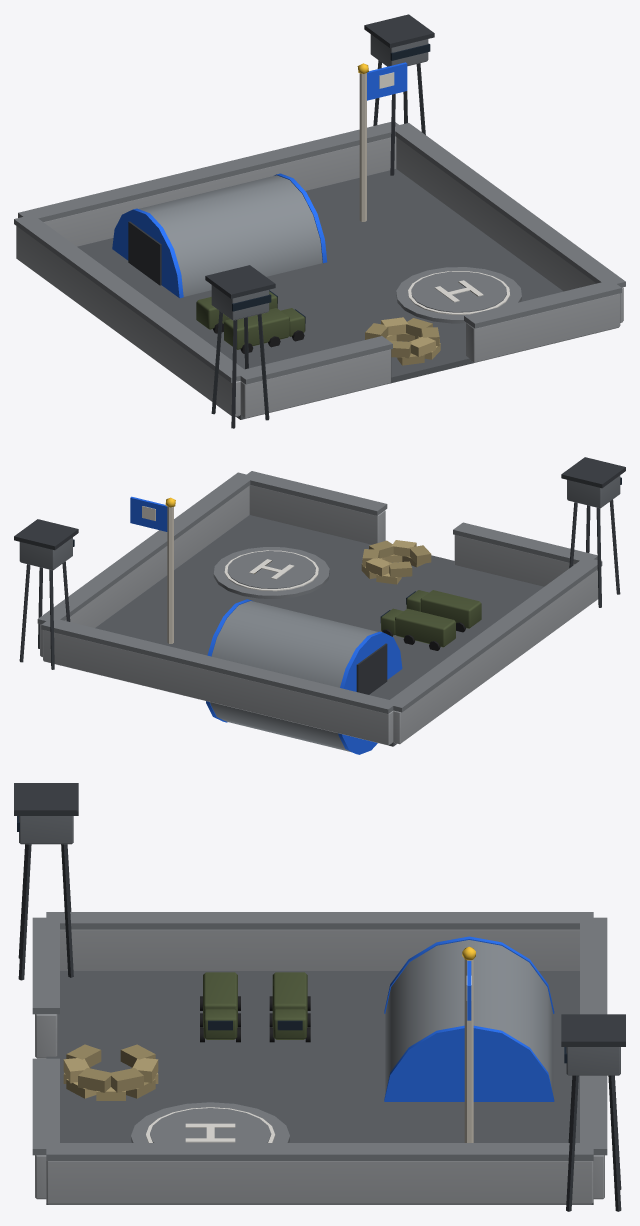
File: military_base_modern_blue.glb
3 renders of one model, top to bottom at view 1: azimuth 30°, elevation 25°; view 2: azimuth 150°, elevation 25°; view 3: azimuth 270°, elevation 25°, orthographic. The views are drawn at different scales.
Visible parts, largest first — view 1: military_base_modern_blue; view 2: military_base_modern_blue; view 3: military_base_modern_blue.
Part boxes in pixels (bbox=[...]): military_base_modern_blue: bbox=[14, 14, 625, 428]; military_base_modern_blue: bbox=[14, 457, 625, 754]; military_base_modern_blue: bbox=[14, 783, 625, 1211].
Size of the model in its own units: 1.23 by 0.618 by 1.23.
1 material, 1 textured.
